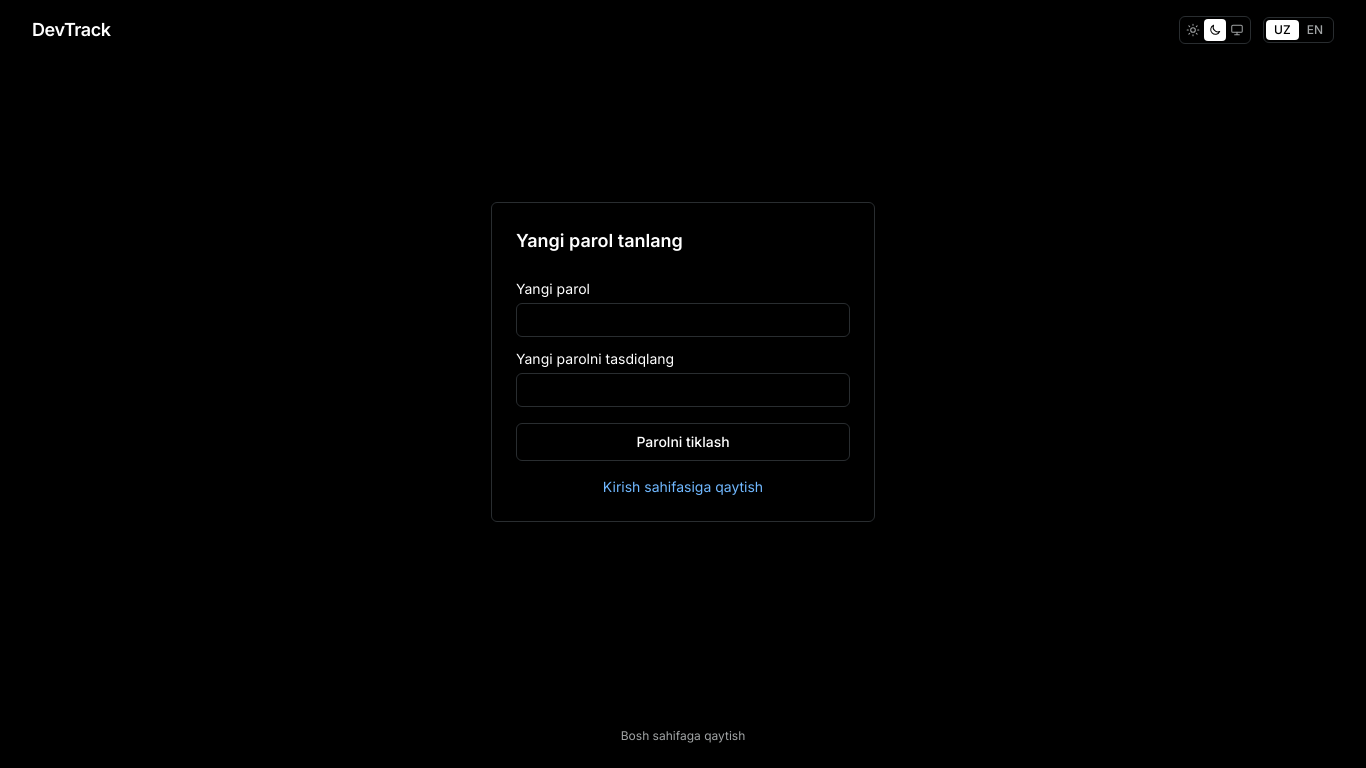
Test case: ResetPasswordPage › shows an invalid-link error at form level
In the password field labelled "Yangi parol": (683, 320) [516,303,850,337], type "Sup3r-secret"
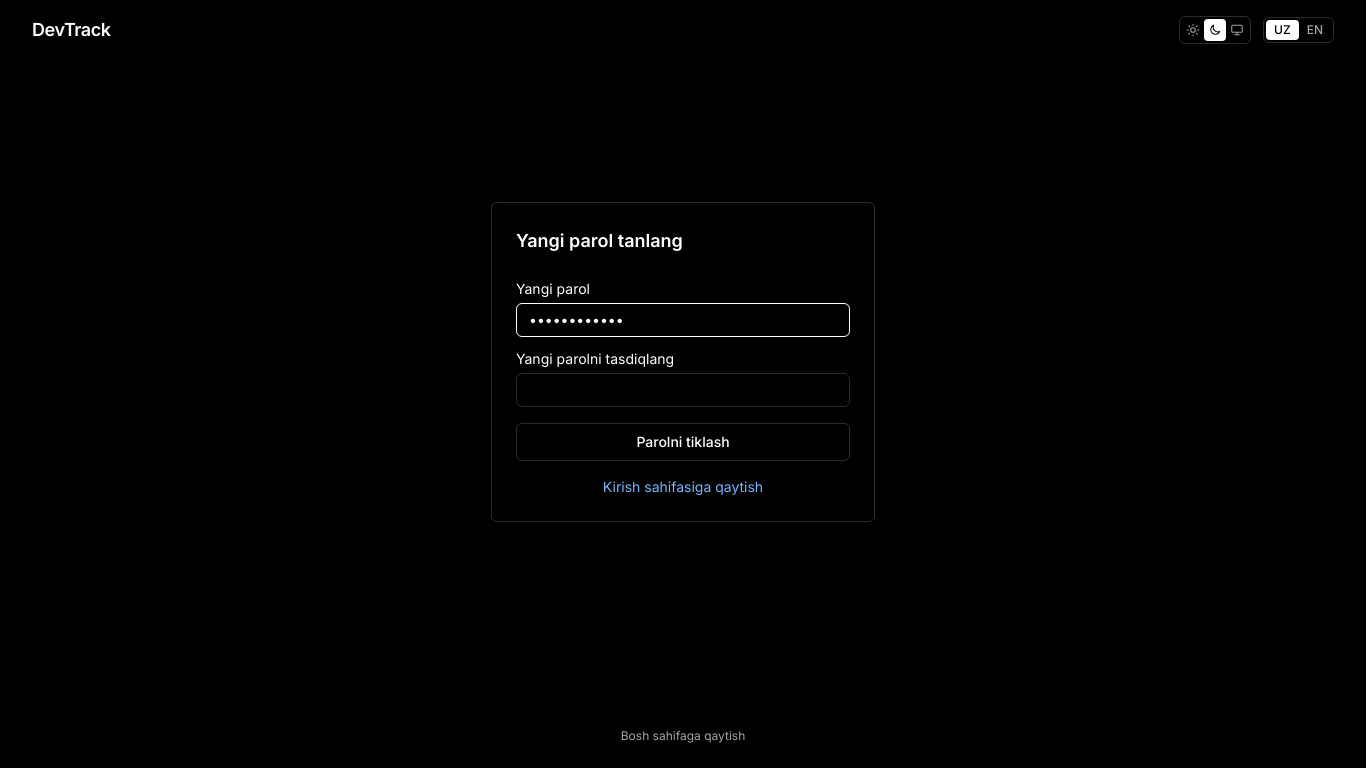
In the password field labelled "Yangi parolni tasdiqlang": (683, 390) [516,373,850,407], type "Sup3r-secret"
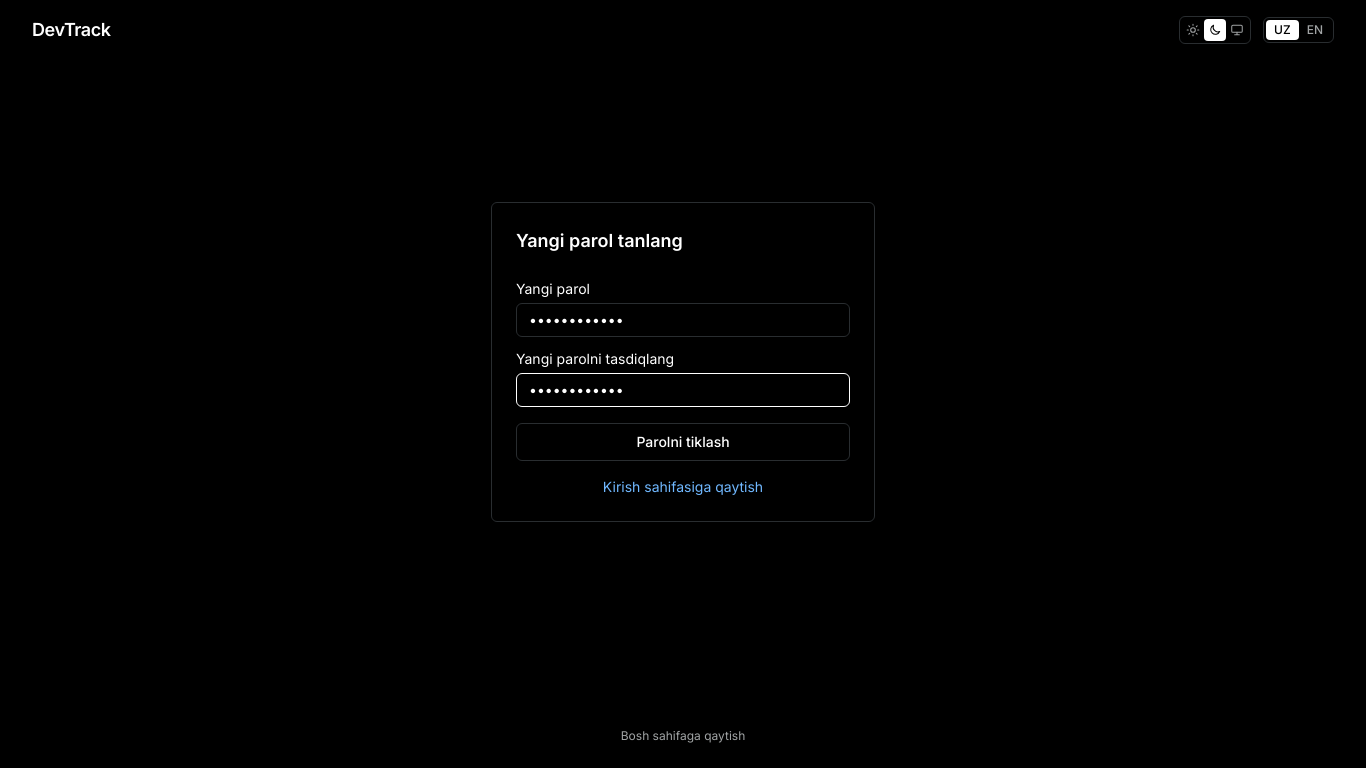
Click the button "Parolni tiklash": (683, 442) [516,423,850,461]
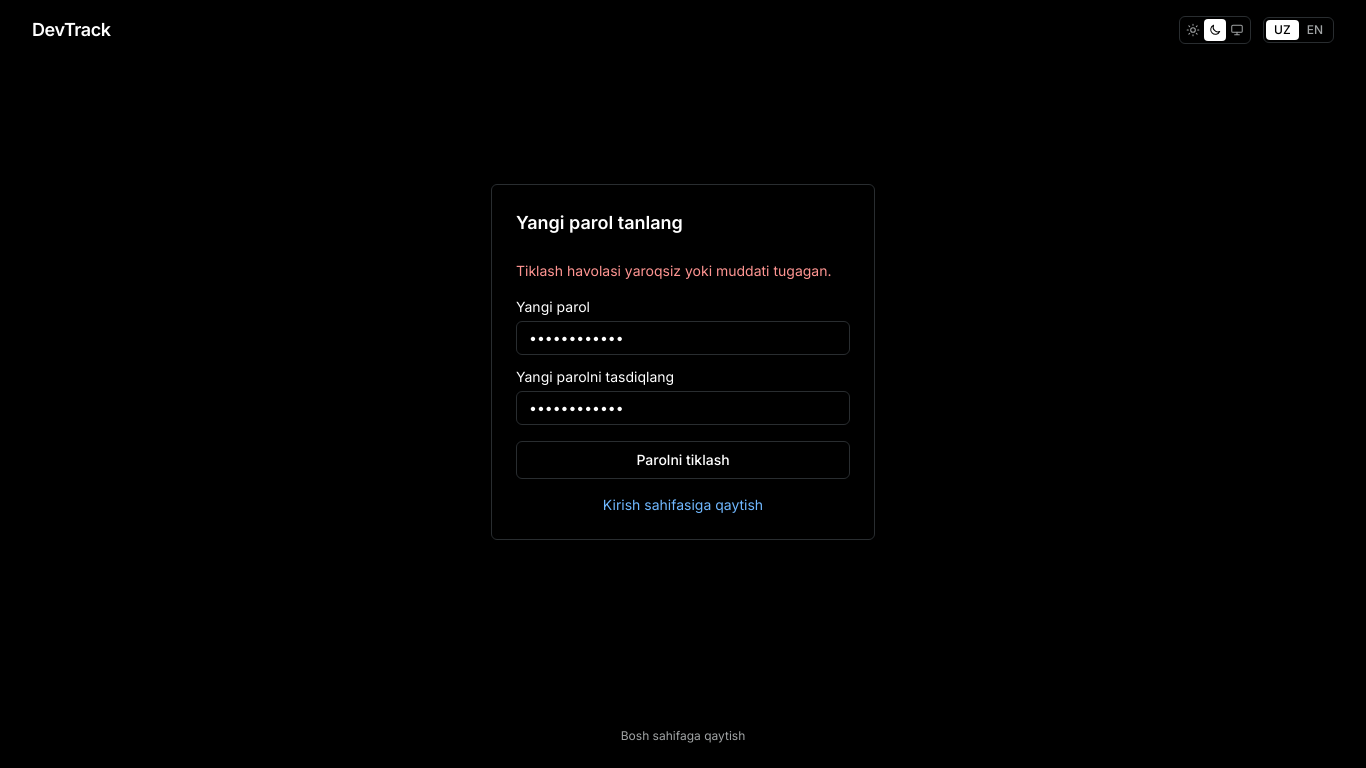
Check: the message reads "Tiklash havolasi yaroqsiz yoki muddati tugagan.", box [516,262,832,279]
